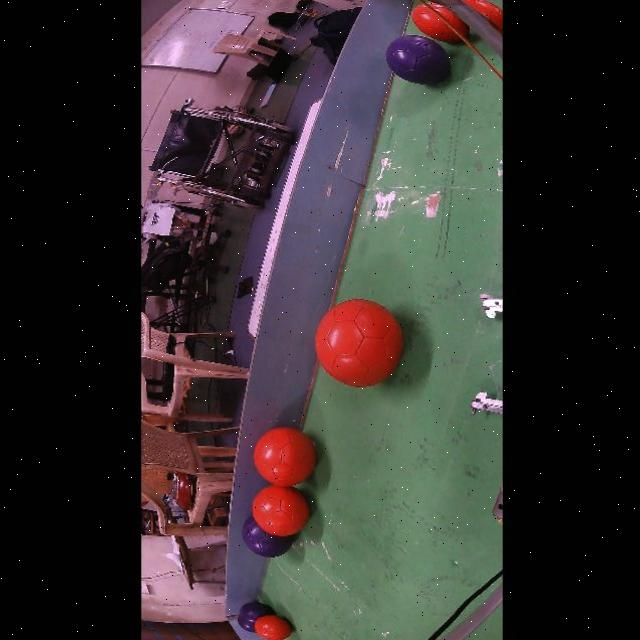P: (386, 36, 450, 85), (241, 516, 292, 558), (237, 602, 274, 632)
R: (315, 300, 402, 388), (254, 427, 315, 486), (252, 485, 309, 536), (411, 3, 469, 43), (254, 616, 291, 640)
